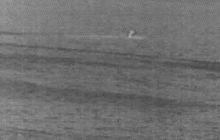dim target: (127, 29, 134, 38)
